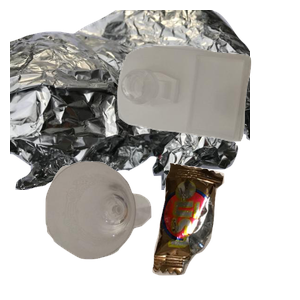glass: (43, 159, 187, 300)
metal: (10, 10, 250, 190)
plastic: (115, 43, 300, 177)
trash: (150, 160, 300, 300)
